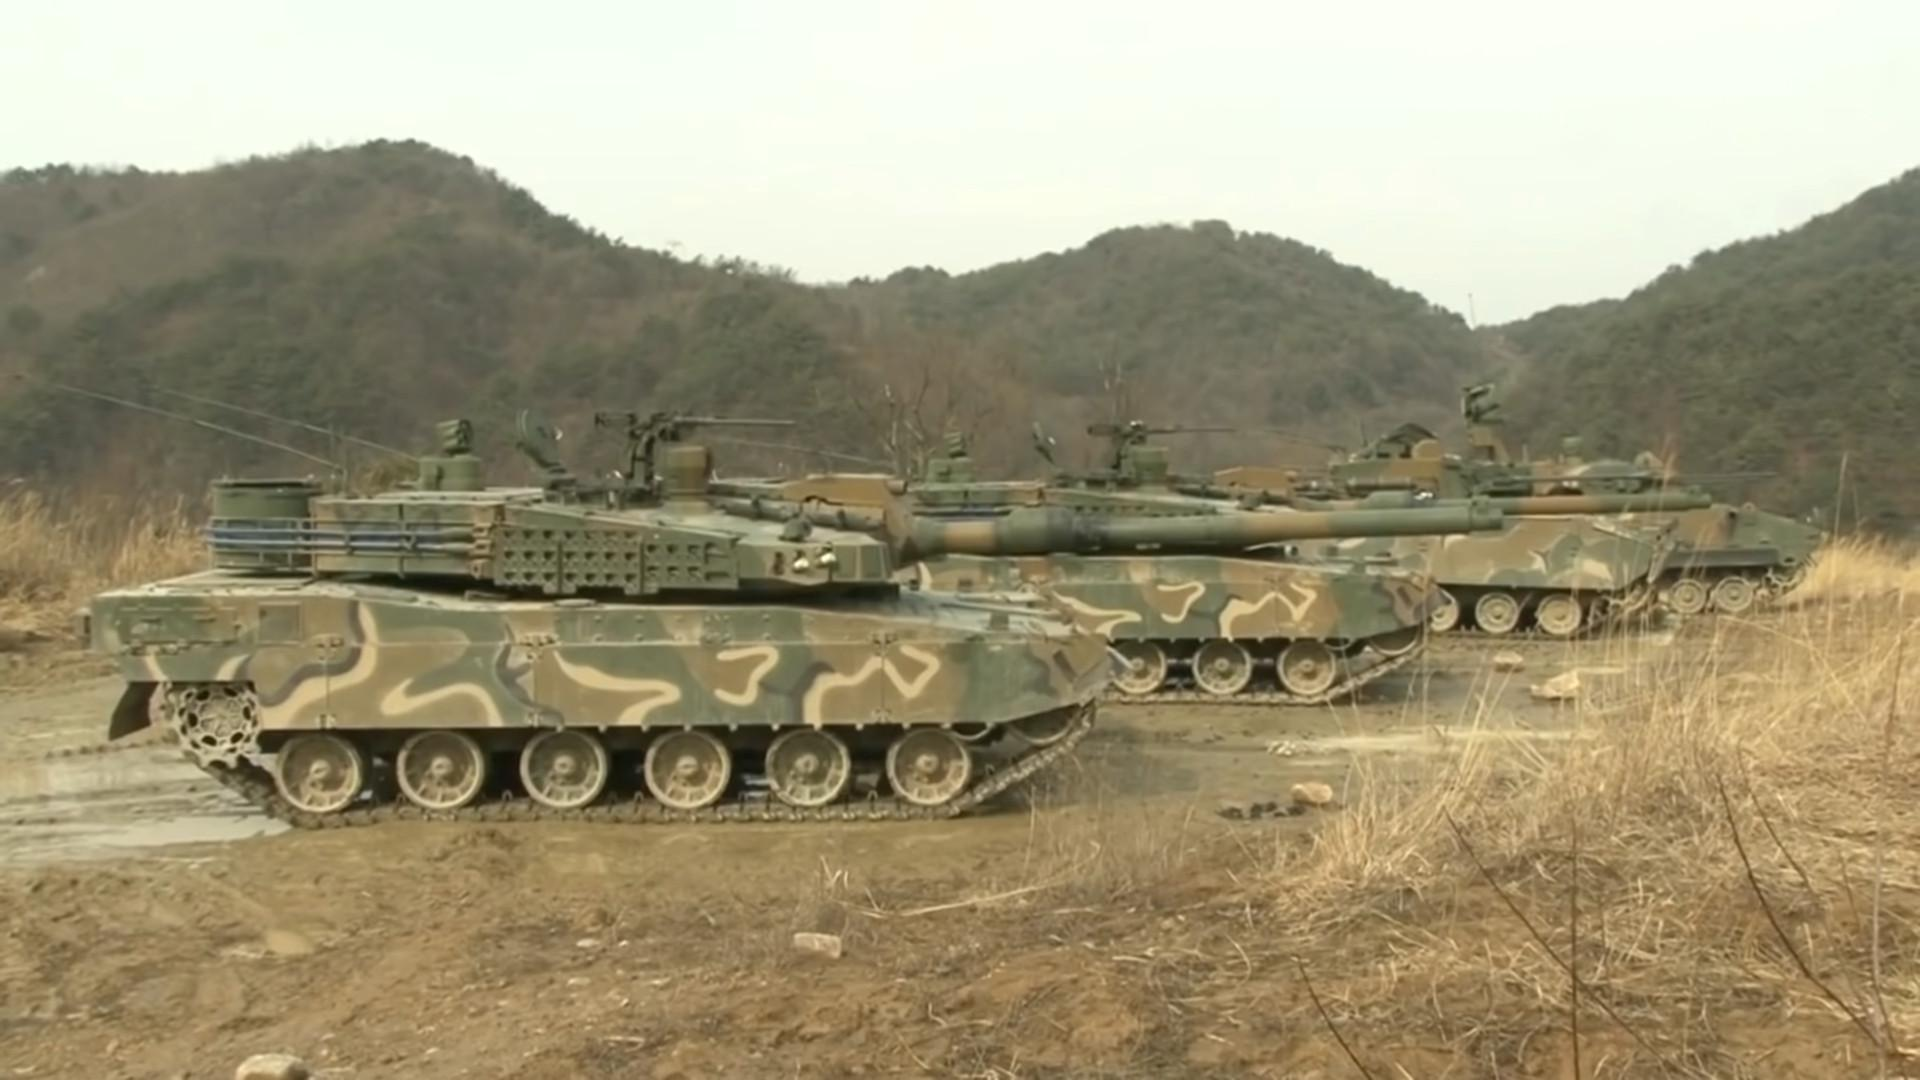tank: (84, 409, 1505, 833), (894, 431, 1443, 705)
